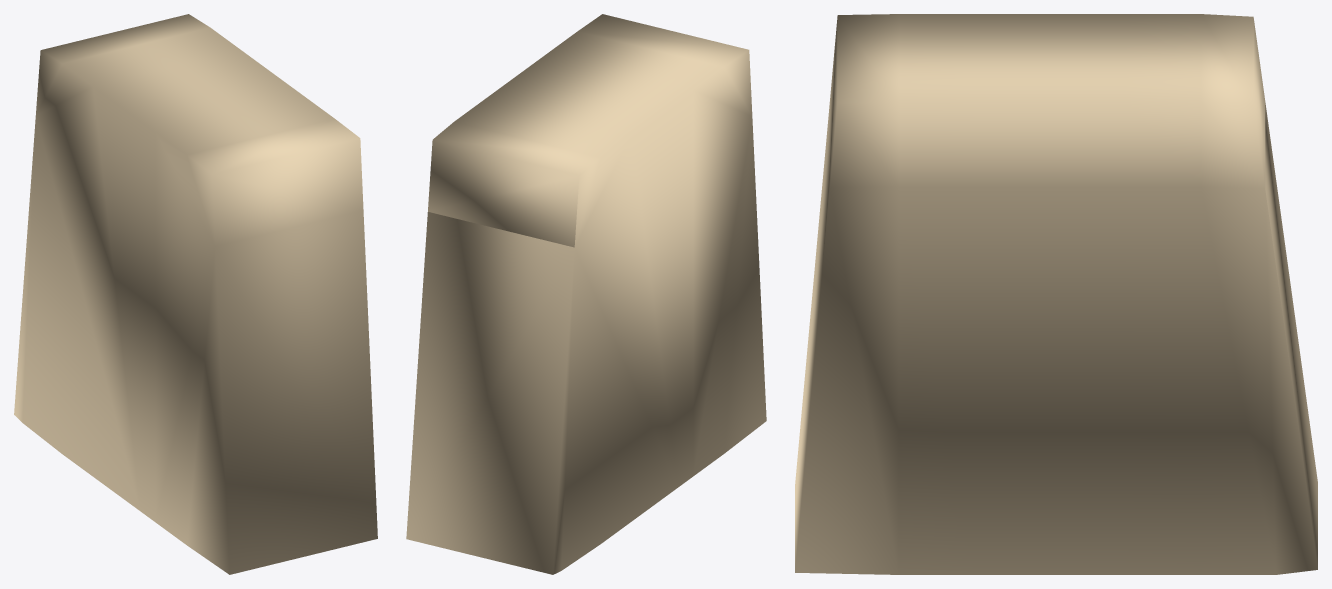
File: Tronky 1 pieces.fbx
3 renders of one model, left to right at view 1: azimuth 30°, elevation 25°; view 2: azimuth 150°, elevation 25°; view 3: azimuth 270°, elevation 25°, orthographic. The views are drawn at different scales.
Parts seen in each view (by area): view 1: Cube.002; view 2: Cube.002; view 3: Cube.002.
Boxes of the visible parts, left/top/right/bottom form: Cube.002: left=14, top=14, right=377, bottom=574; Cube.002: left=406, top=14, right=766, bottom=574; Cube.002: left=795, top=14, right=1317, bottom=574.
Bounding box in the file's own units: 0.3969 × 1 × 0.9987.
